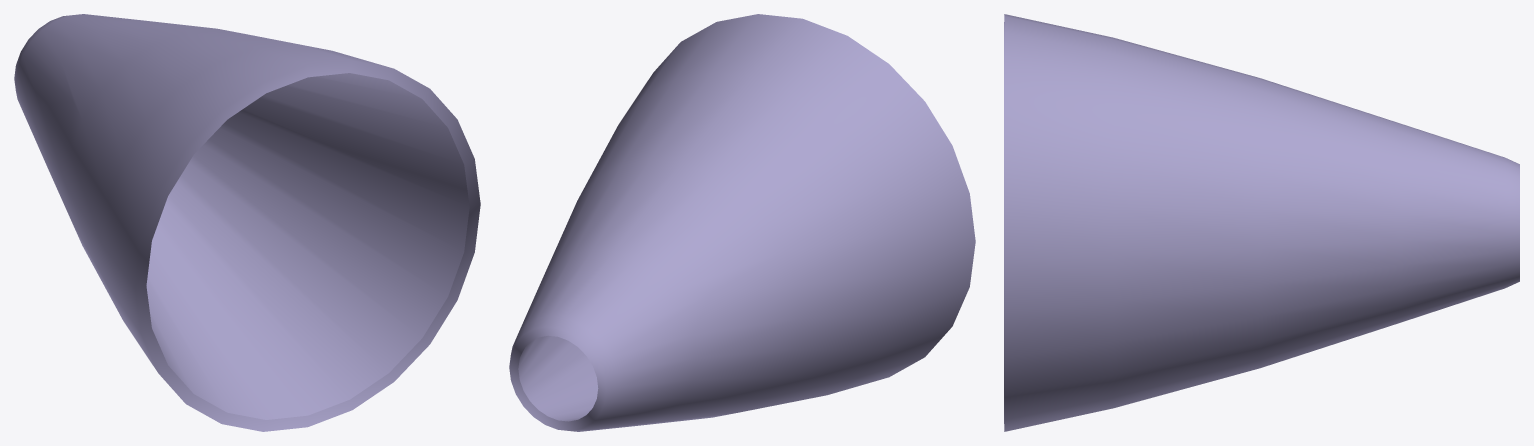
File: 火箭尾部2.FBX
3 renders of one model, left to right at view 1: azimuth 30°, elevation 25°; view 2: azimuth 150°, elevation 25°; view 3: azimuth 270°, elevation 25°, orthographic. The views are drawn at different scales.
Visible parts, largest first — view 1: YF-50D发动机_00; view 2: YF-50D发动机_00; view 3: YF-50D发动机_00.
Boxes of the visible parts, x1=… form: YF-50D发动机_00: x1=14, y1=14, x2=480, y2=431; YF-50D发动机_00: x1=509, y1=14, x2=975, y2=431; YF-50D发动机_00: x1=1004, y1=14, x2=1519, y2=431.
Size of the model in its own units: 460 by 460 by 566.
